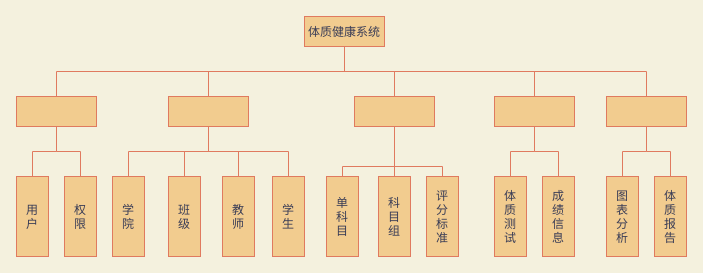
This 703x273 diagram has some shape labels left out. The centre of each missing label's shape, as x and y in pixels:
体测: pixel 534 111
基础数据: pixel 208 111
用户与权限: pixel 56 111
科目: pixel 394 111
统计分析: pixel 646 111
